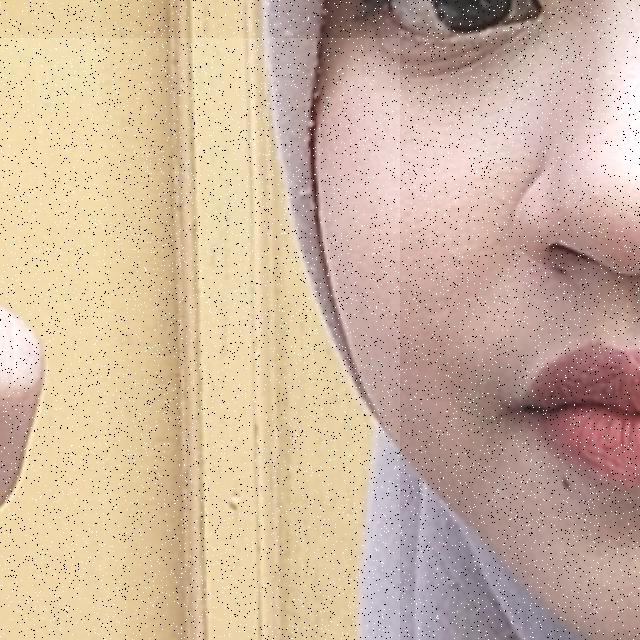baik: (0, 38, 400, 640)
